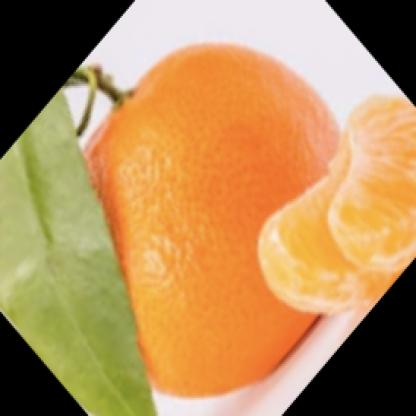fresh: (67, 43, 379, 395)
